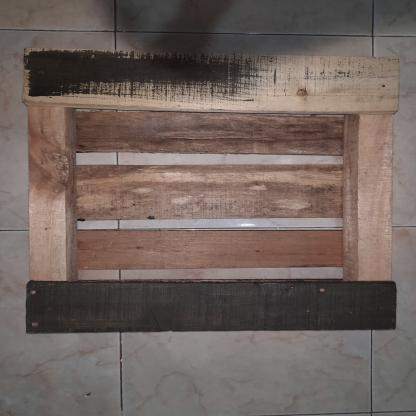Wooden-Pallet: (21, 46, 408, 338)
